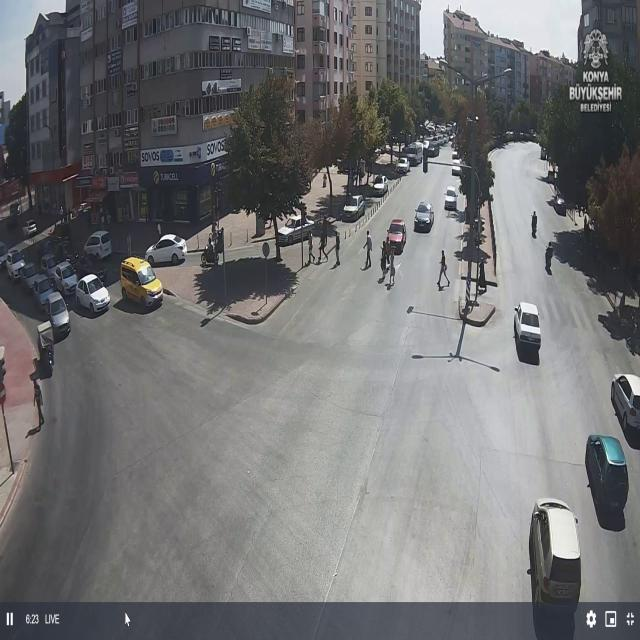Car: (528, 500, 581, 615), (584, 436, 628, 518), (120, 256, 164, 308), (610, 374, 640, 437), (76, 274, 112, 314), (514, 302, 543, 350), (145, 234, 188, 266), (276, 214, 317, 247), (50, 260, 80, 296), (48, 292, 70, 338), (30, 274, 58, 307), (83, 230, 113, 260), (4, 250, 28, 280), (386, 219, 406, 253), (342, 195, 366, 221), (414, 200, 434, 230), (40, 251, 61, 273), (372, 175, 389, 196), (444, 186, 458, 210), (552, 196, 566, 216), (22, 220, 36, 238), (396, 158, 410, 175)
